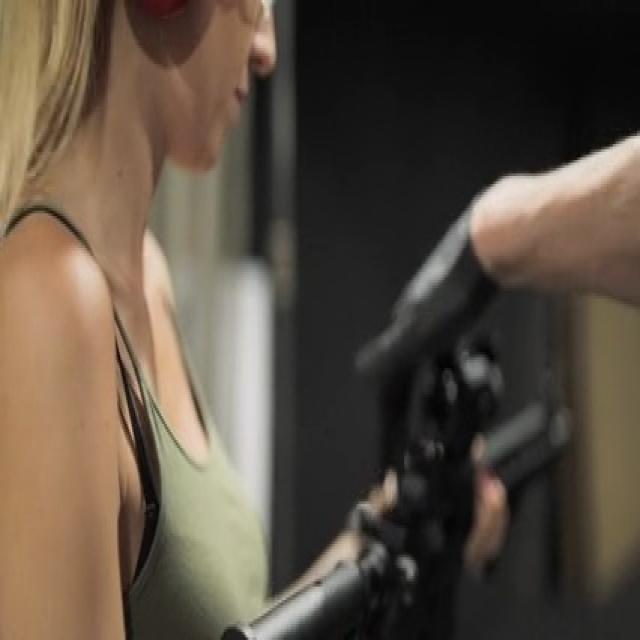Gun_Holder: (216, 341, 640, 640)
Person: (3, 2, 285, 620)
